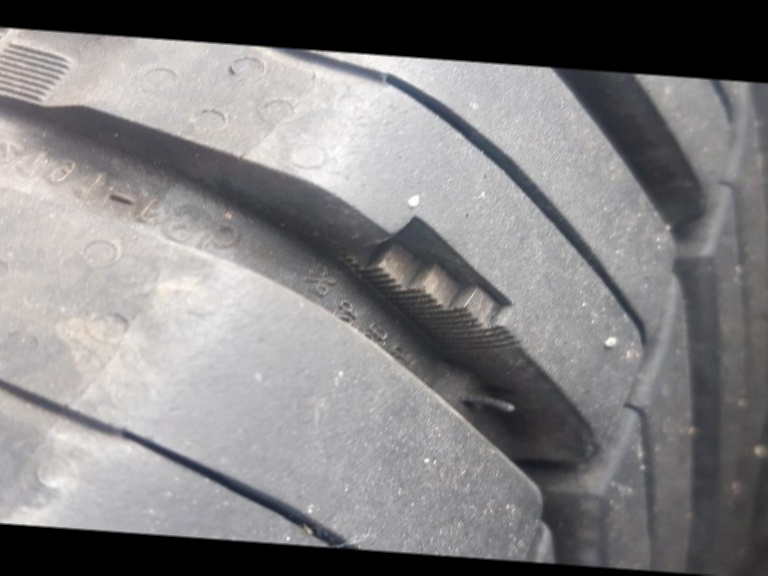temoin:90: (312, 202, 546, 366)
